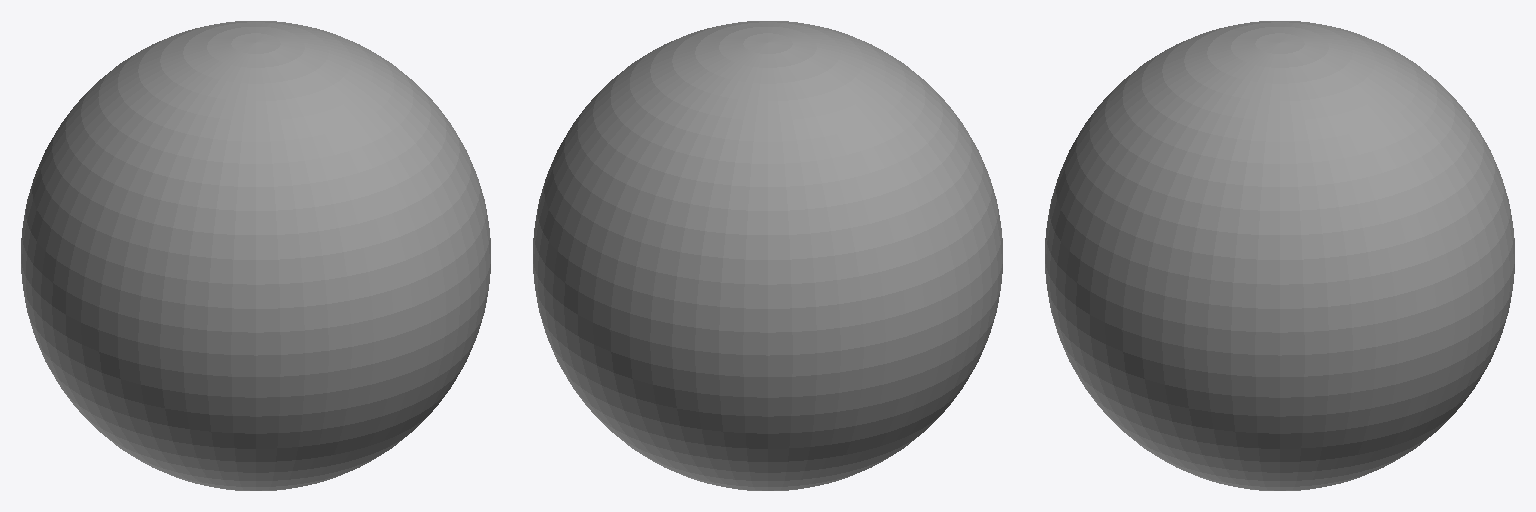
Rendered from sun.obj.
3 views of the same model, side by side, from view 1: azimuth 30°, elevation 25°; view 2: azimuth 150°, elevation 25°; view 3: azimuth 270°, elevation 25° (orthographic).
Parts seen in each view (by area): view 1: Esfera.002; view 2: Esfera.002; view 3: Esfera.002.
Part boxes in pixels (x1,y1,x2,y2): Esfera.002: (21, 21, 490, 490); Esfera.002: (533, 21, 1002, 490); Esfera.002: (1045, 21, 1514, 490).
Bounding box in the file's own units: 40000 × 40000 × 40000.